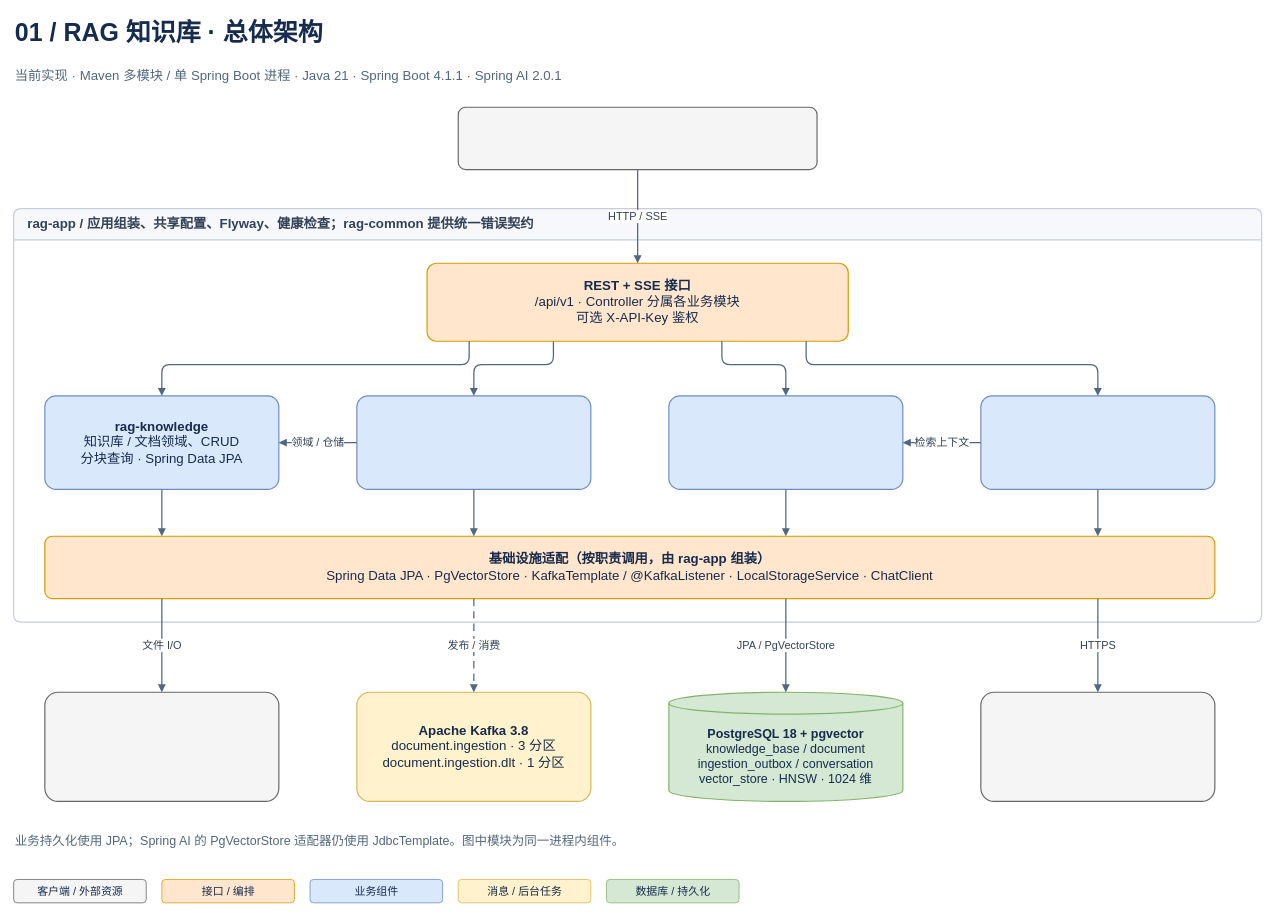
This 1276x916 diagram has some shape labels left out. Each missing label, with the centre of its shape:
rag-chat 单轮 / 多轮对话 上下文组装 · SSE · 历史持久化: the point at 1097,442
rag-ingestion 上传 / 网页 → Outbox → Kafka 解析、分块、向量化、重试: the point at 473,442
rag-retrieval 查询改写 · 向量召回 重排 · 阈值过滤 · MMR: the point at 785,442
本地文件存储 PDF / DOC(X) / MD / TXT 默认 ~/rag-uploads: the point at 161,746
模型服务 · 默认百炼 Chat: qwen-plus Embedding: text-embedding-v3 Rerank: gte-rerank-v2: the point at 1097,746
浏览器 / rag-admin 独立前端仓库 · 上传、检索、对话: the point at 637,138
